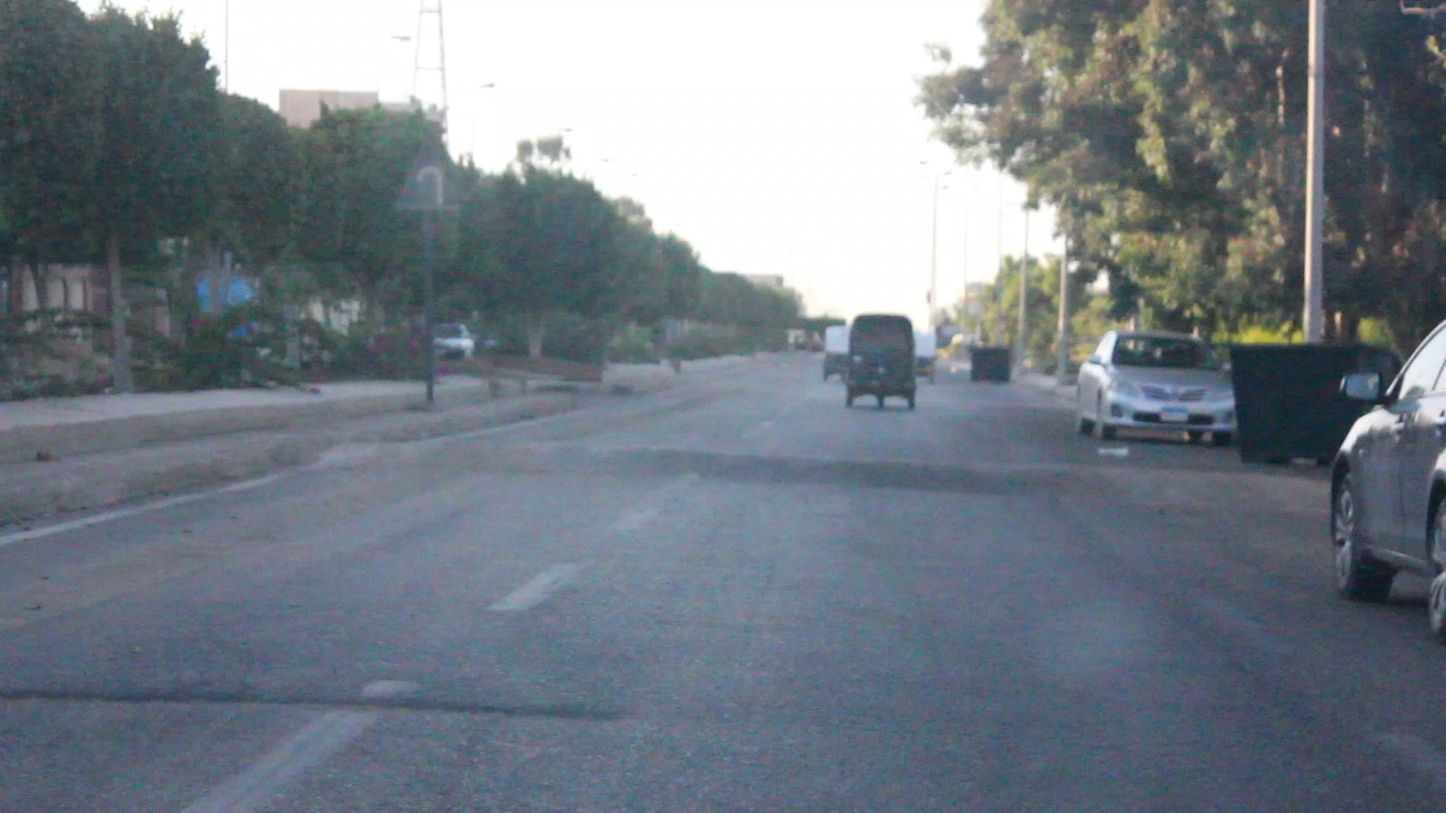Bump: (320, 437, 1322, 519)
